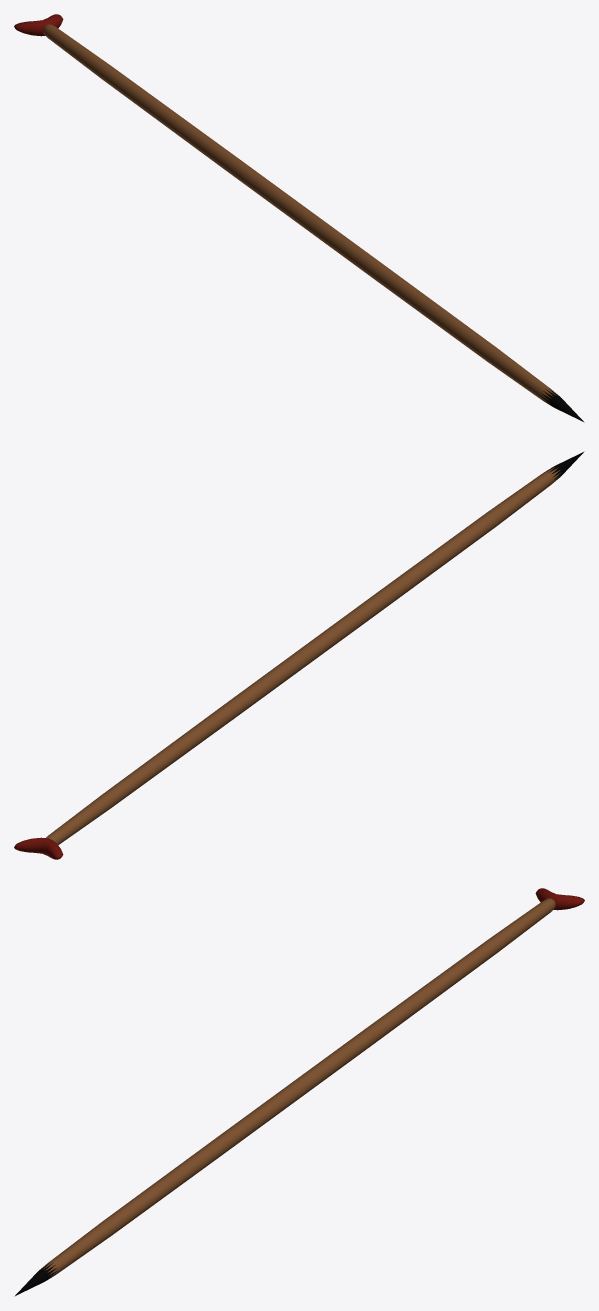
Rendered from Arrow.fbx.
3 renders of one model, top to bottom at view 1: azimuth 30°, elevation 25°; view 2: azimuth 150°, elevation 25°; view 3: azimuth 330°, elevation 25°, orthographic.
Parts seen in each view (by area): view 1: arrow; view 2: arrow; view 3: arrow.
Boxes of the visible parts, x1,y1,x2,y2 form: arrow: [14, 14, 584, 422]; arrow: [14, 451, 584, 859]; arrow: [14, 888, 584, 1296].
Size of the model in its own units: 14.87 by 4.83 by 303.
